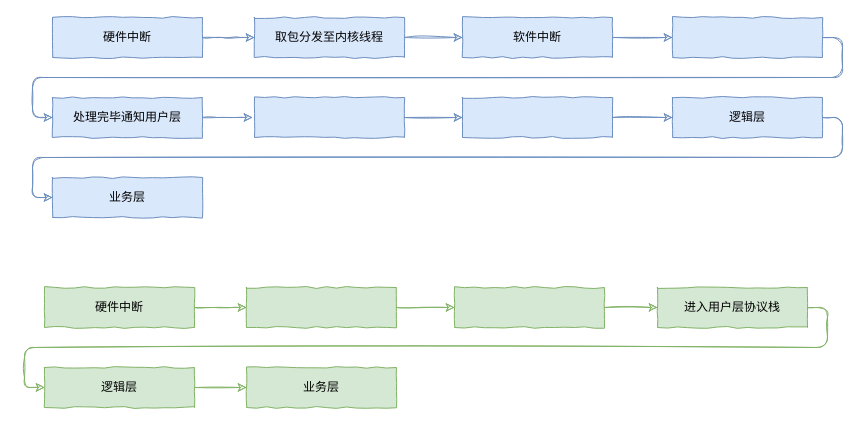
Some shapes in this 868 by 425 pixel diagram are drawn without their labels. Each missing label, with the centre of its shape:
"内核线程在协议中处理包" goes at (747,37).
"放弃中断流程" goes at (321,307).
"用户层收包" goes at (329,117).
"用户层通过设备映射取包" goes at (529,307).
"网络层" goes at (537,117).
